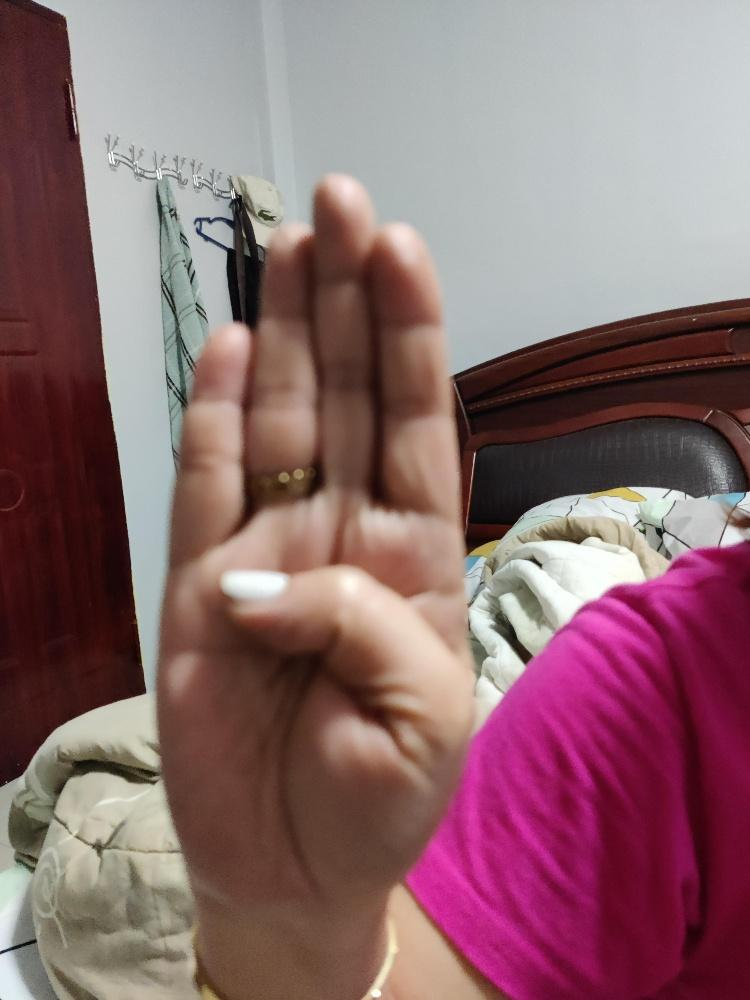b: (150, 170, 479, 901)
